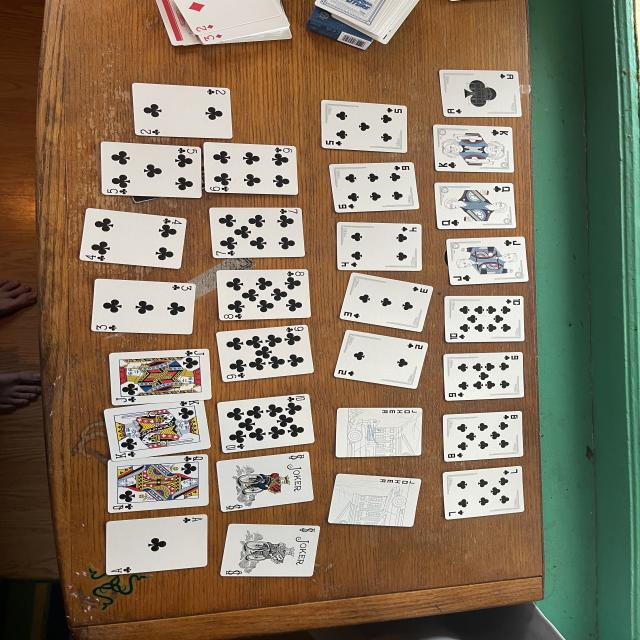10 of clubs: (217, 395, 315, 452), (445, 296, 525, 342)
2 of clubs: (132, 82, 233, 139), (333, 330, 428, 389)
3 of clubs: (92, 279, 195, 335), (340, 272, 433, 331)
4 of clubs: (80, 209, 187, 269), (337, 222, 422, 271)
5 of clubs: (100, 141, 202, 198), (322, 100, 407, 152)
6 of clubs: (203, 142, 298, 195), (328, 162, 418, 212)
7 of clubs: (208, 208, 305, 259), (443, 466, 525, 520)
8 of clubs: (217, 269, 312, 320), (442, 411, 523, 461)
9 of clubs: (217, 325, 313, 381), (443, 352, 525, 401)
Ace of clubs: (105, 514, 208, 575), (438, 70, 522, 118)
Jack of clubs: (110, 349, 212, 405), (447, 236, 528, 285)
Joker: (217, 451, 313, 512), (220, 524, 320, 578), (328, 474, 420, 526), (335, 408, 422, 458)
King of clubs: (103, 400, 210, 461), (433, 125, 515, 172)
Queen of clubs: (107, 454, 208, 512), (435, 182, 517, 229)
